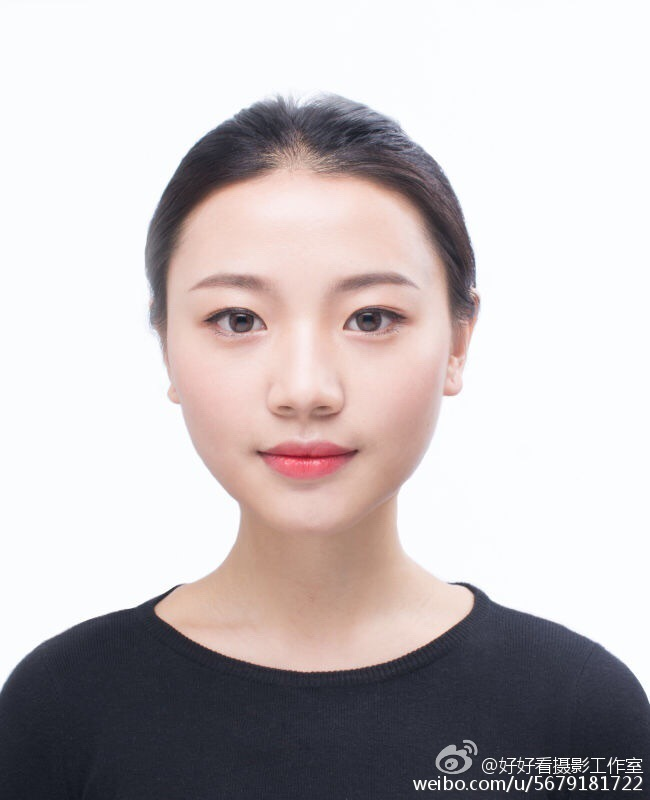unmask: (175, 196, 443, 509)
